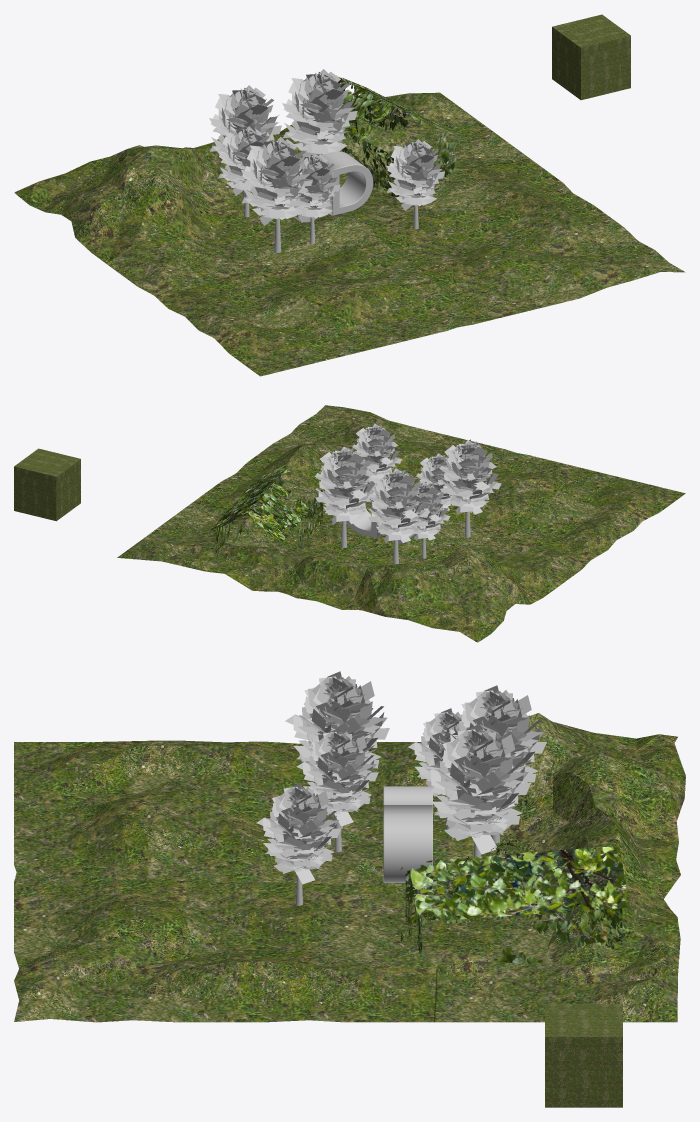
The model's file is tree.obj.
The picture shows the model from 3 angles, top to bottom: view 1: azimuth 30°, elevation 25°; view 2: azimuth 150°, elevation 25°; view 3: azimuth 270°, elevation 25°; orthographic projection. The views are drawn at different scales.
Visible parts, largest first — view 1: Plane, Cube_Cube.001, leaves.005, leaves.002_leaves.001, Cube.001_Cube.002, leaves_leaves.002, leaves.003, Text_Mesh.005, leaves.001_leaves.000, leaves.004; view 2: Plane, Cube.001_Cube.002, Cube_Cube.001, leaves.005, leaves.002_leaves.001, leaves.003, leaves_leaves.002, leaves.004, leaves.001_leaves.000, Text_Mesh.005; view 3: Plane, Cube.001_Cube.002, leaves.005, Cube_Cube.001, leaves_leaves.002, leaves.002_leaves.001, leaves.001_leaves.000, Text_Mesh.005, leaves.003, leaves.004.
Part boxes in pixels (x1=…): Plane: x1=14, y1=92, x2=685, y2=376; Cube_Cube.001: x1=552, y1=14, x2=630, y2=100; leaves.005: x1=282, y1=69, x2=357, y2=156; leaves.002_leaves.001: x1=241, y1=137, x2=312, y2=225; Cube.001_Cube.002: x1=336, y1=75, x2=460, y2=196; leaves_leaves.002: x1=386, y1=139, x2=444, y2=210; leaves.003: x1=209, y1=85, x2=281, y2=159; Text_Mesh.005: x1=293, y1=151, x2=373, y2=222; leaves.001_leaves.000: x1=296, y1=153, x2=340, y2=222; leaves.004: x1=218, y1=126, x2=268, y2=195; Plane: x1=117, y1=405, x2=685, y2=642; Cube.001_Cube.002: x1=209, y1=464, x2=322, y2=557; Cube_Cube.001: x1=14, y1=448, x2=80, y2=521; leaves.005: x1=315, y1=446, x2=375, y2=524; leaves.002_leaves.001: x1=439, y1=439, x2=501, y2=515; leaves.003: x1=368, y1=468, x2=429, y2=543; leaves_leaves.002: x1=352, y1=423, x2=402, y2=482; leaves.004: x1=411, y1=482, x2=450, y2=540; leaves.001_leaves.000: x1=416, y1=453, x2=452, y2=510; Text_Mesh.005: x1=346, y1=484, x2=416, y2=543; Plane: x1=14, y1=713, x2=685, y2=1022; Cube.001_Cube.002: x1=398, y1=834, x2=629, y2=963; leaves.005: x1=422, y1=724, x2=530, y2=854; Cube_Cube.001: x1=545, y1=1004, x2=622, y2=1107; leaves_leaves.002: x1=256, y1=783, x2=340, y2=884; leaves.002_leaves.001: x1=285, y1=671, x2=389, y2=768; leaves.001_leaves.000: x1=296, y1=728, x2=378, y2=826; Text_Mesh.005: x1=383, y1=786, x2=432, y2=882; leaves.003: x1=442, y1=685, x2=546, y2=807; leaves.004: x1=408, y1=708, x2=462, y2=796.
Size of the model in its own units: 22.66 by 4.63 by 17.2.
